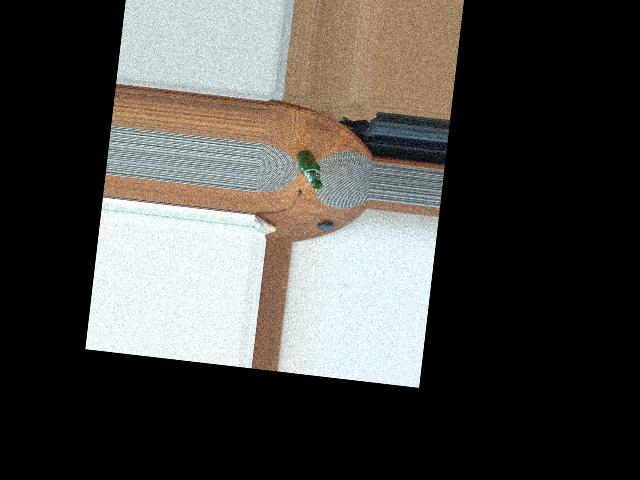beer: (291, 148, 326, 189)
